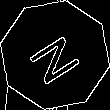N_NE: (23, 24, 87, 86)
